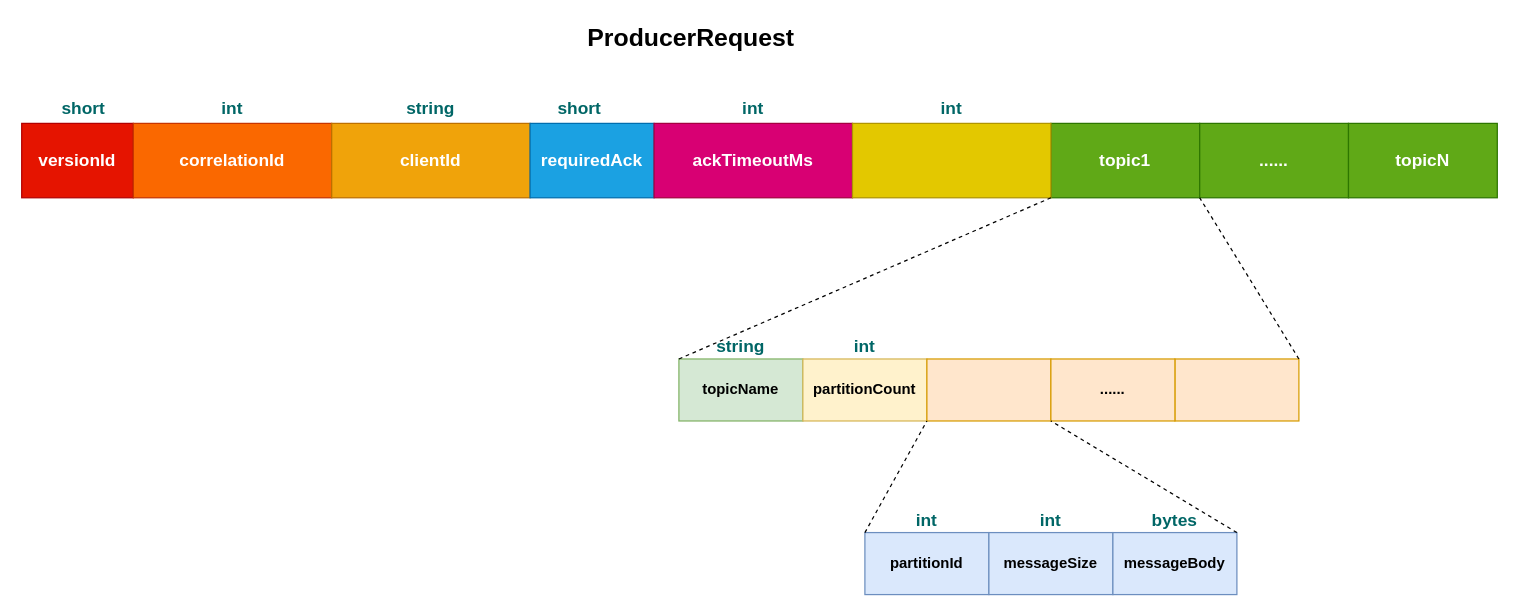
The diagram is 1519 pixels wide and 616 high, and some of its shapes have lost their labels. Here are the shapes that lost their labels. From the top down, the centre of each, then its label:
At point 951,160: "topicCount".
At point 988,389: "partition1".
At point 1236,389: "partitionN".
